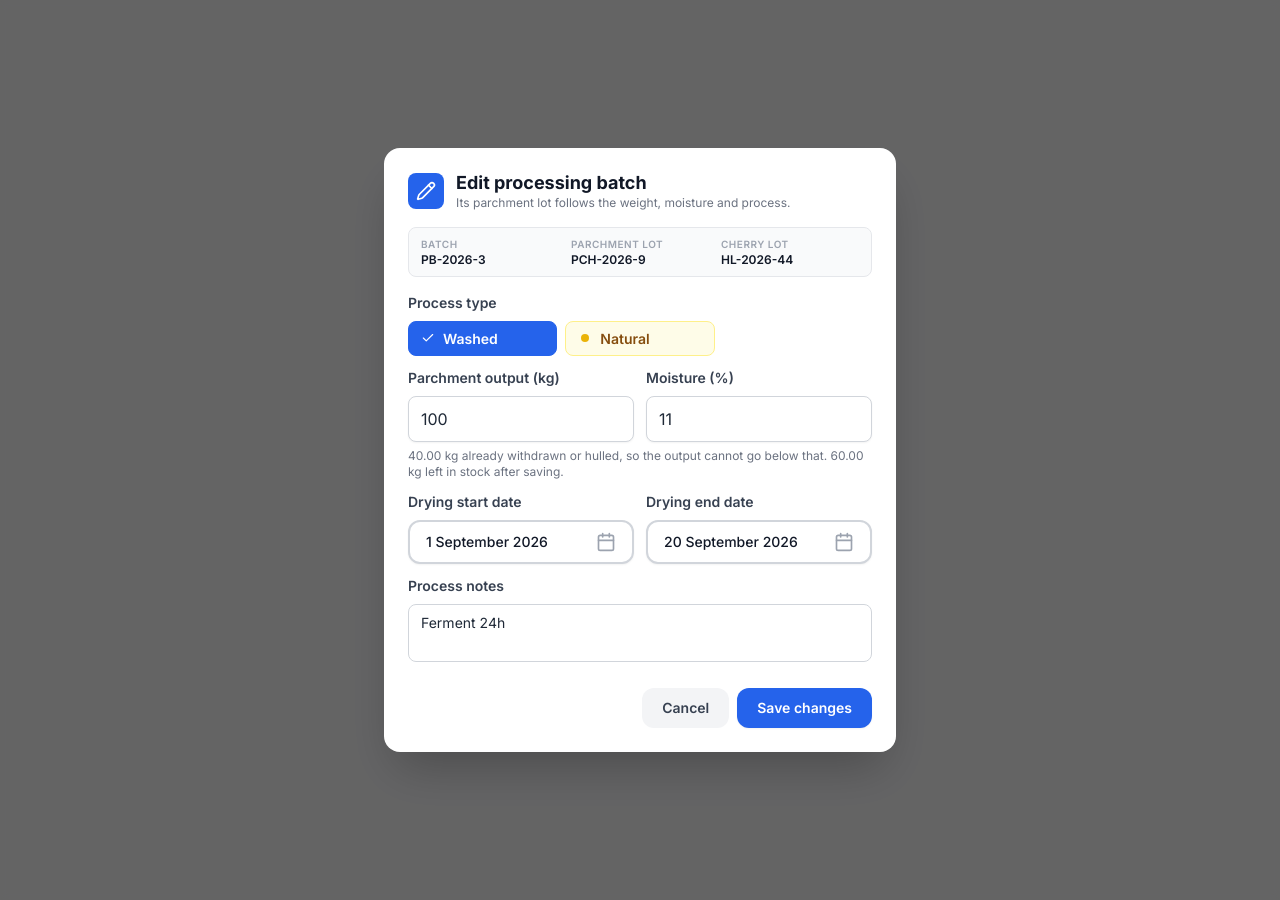
EditProcessingBatchModal › refuses an output below what already went out, or above the cherry, without sending
Replace the text in the number field labelled "Parchment output (kg)" with "39.5" at (521, 419), box 408,396 -> 634,442
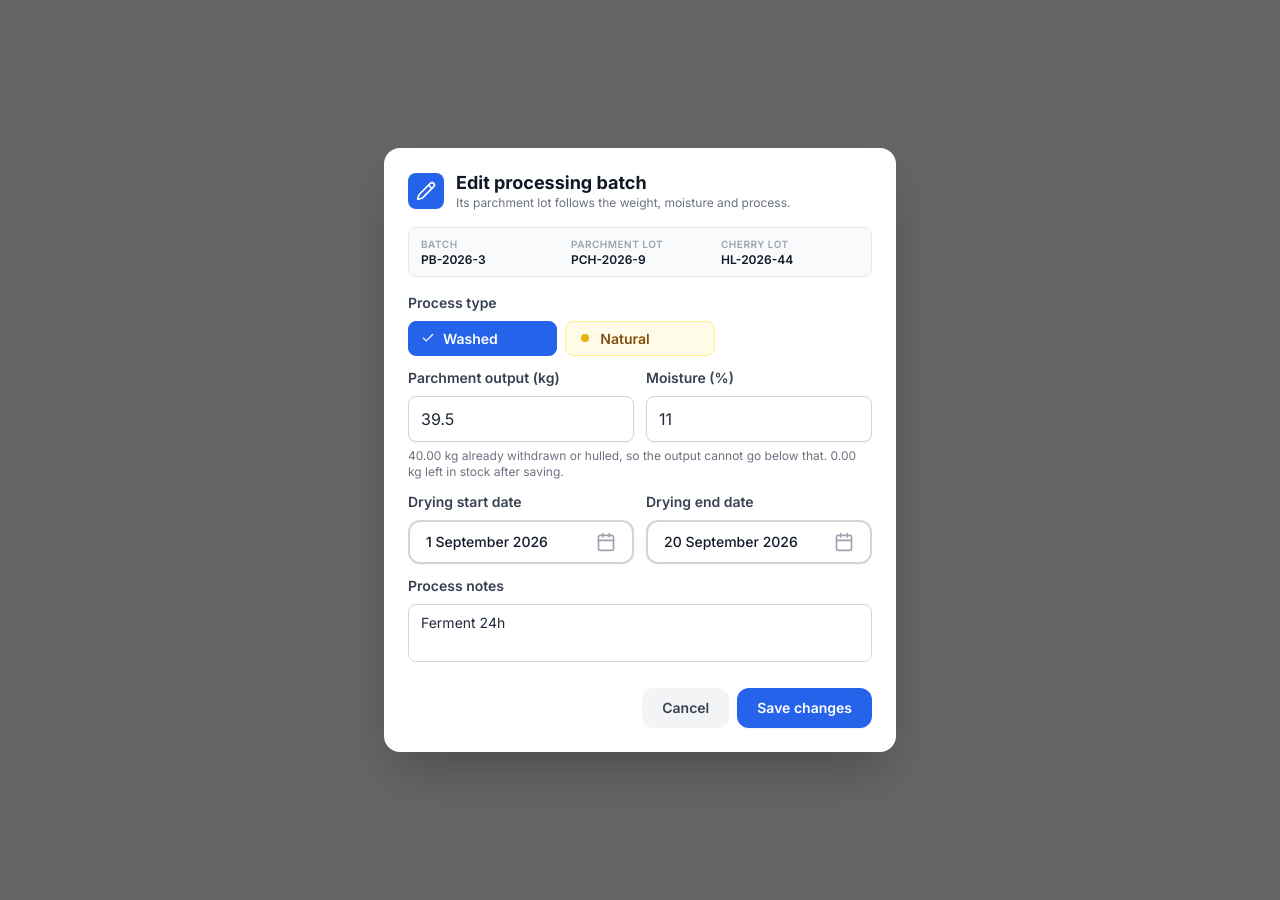
Click the button "Save changes" at (805, 708), box 737,688 -> 872,728
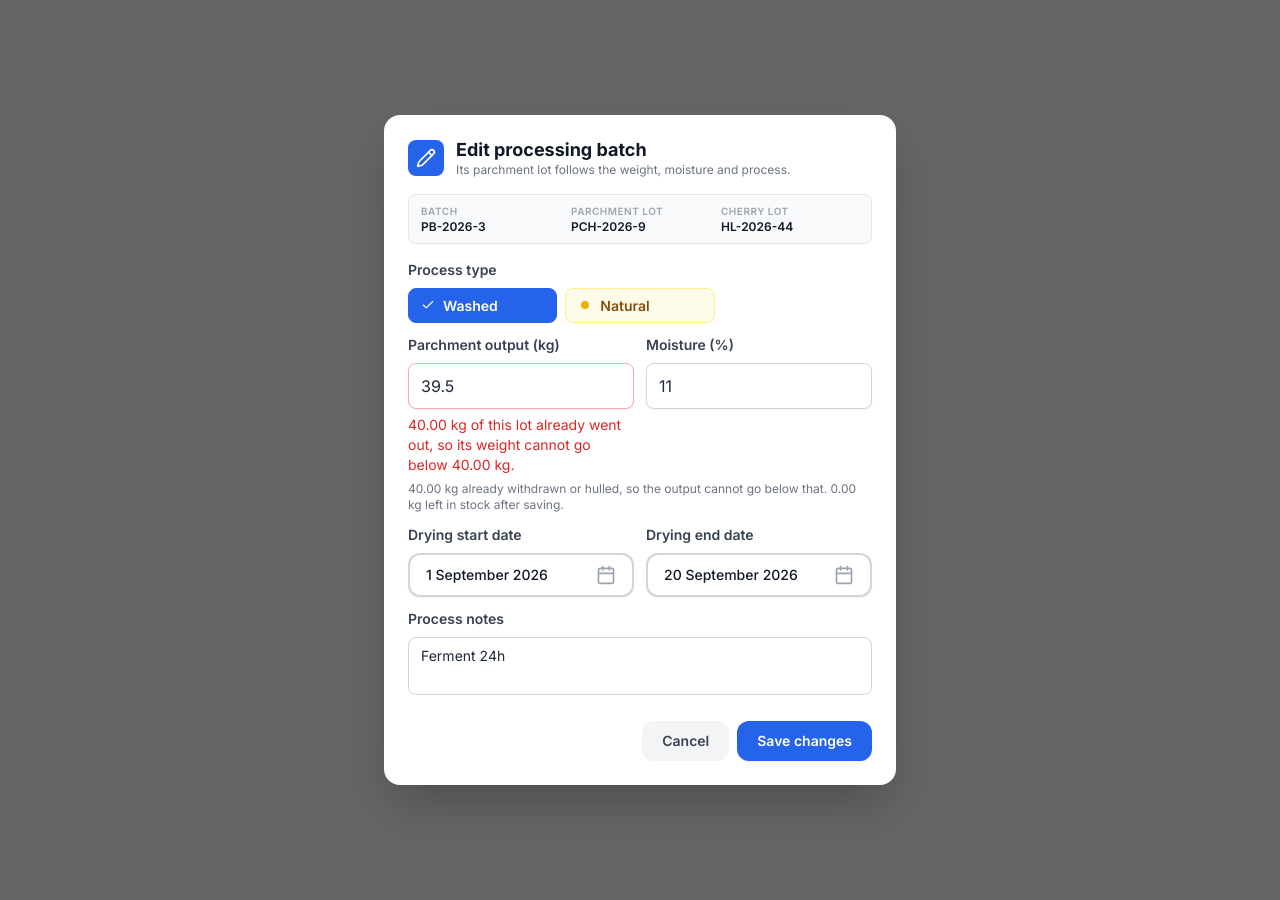
expect the text "40.00 kg of this lot already went out" is shown: met, box 408,416 -> 621,473
Replace the text in the number field labelled "Parchment output (kg)" with "401" at (521, 386), box 408,363 -> 634,409
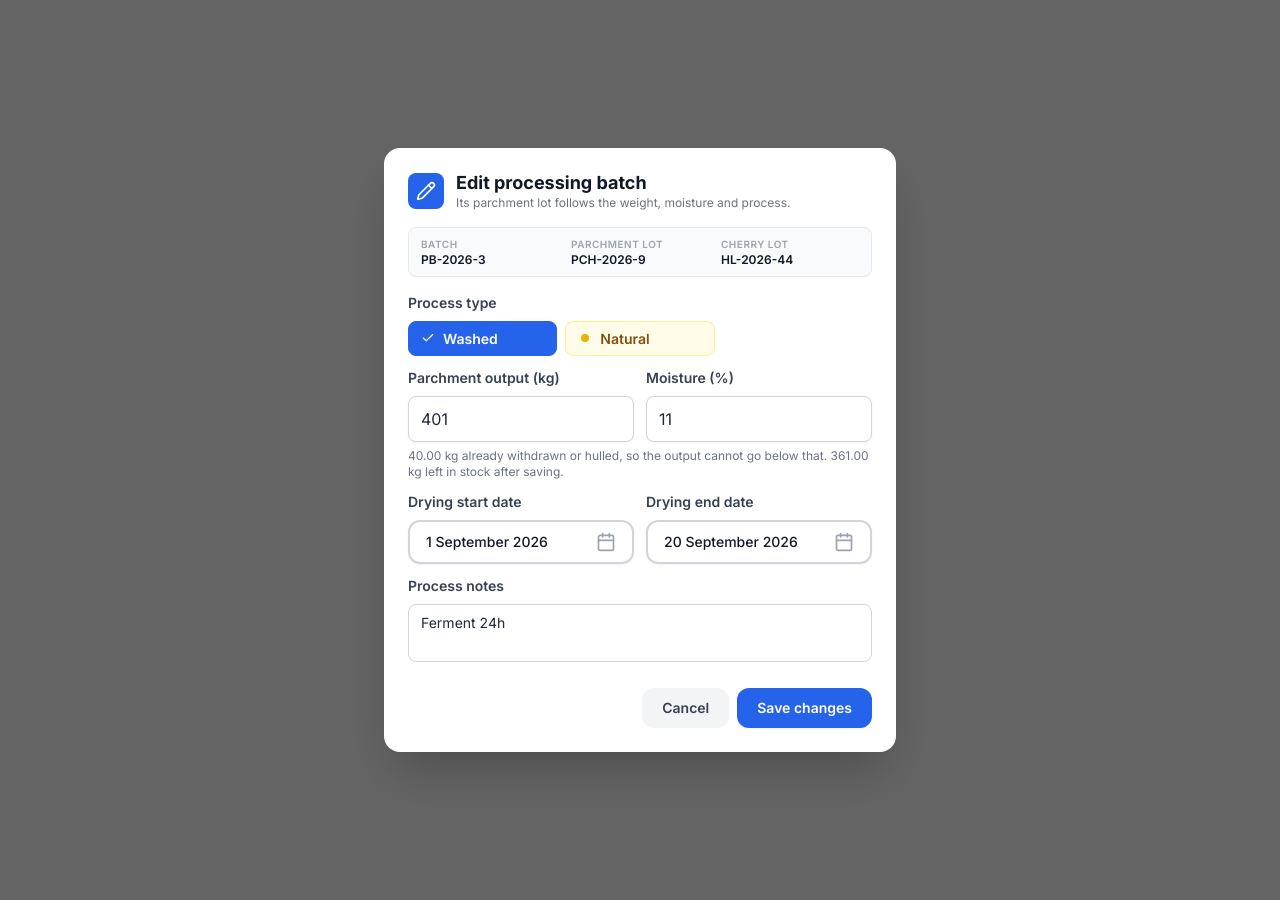
Click the button "Save changes" at (805, 708), box 737,688 -> 872,728
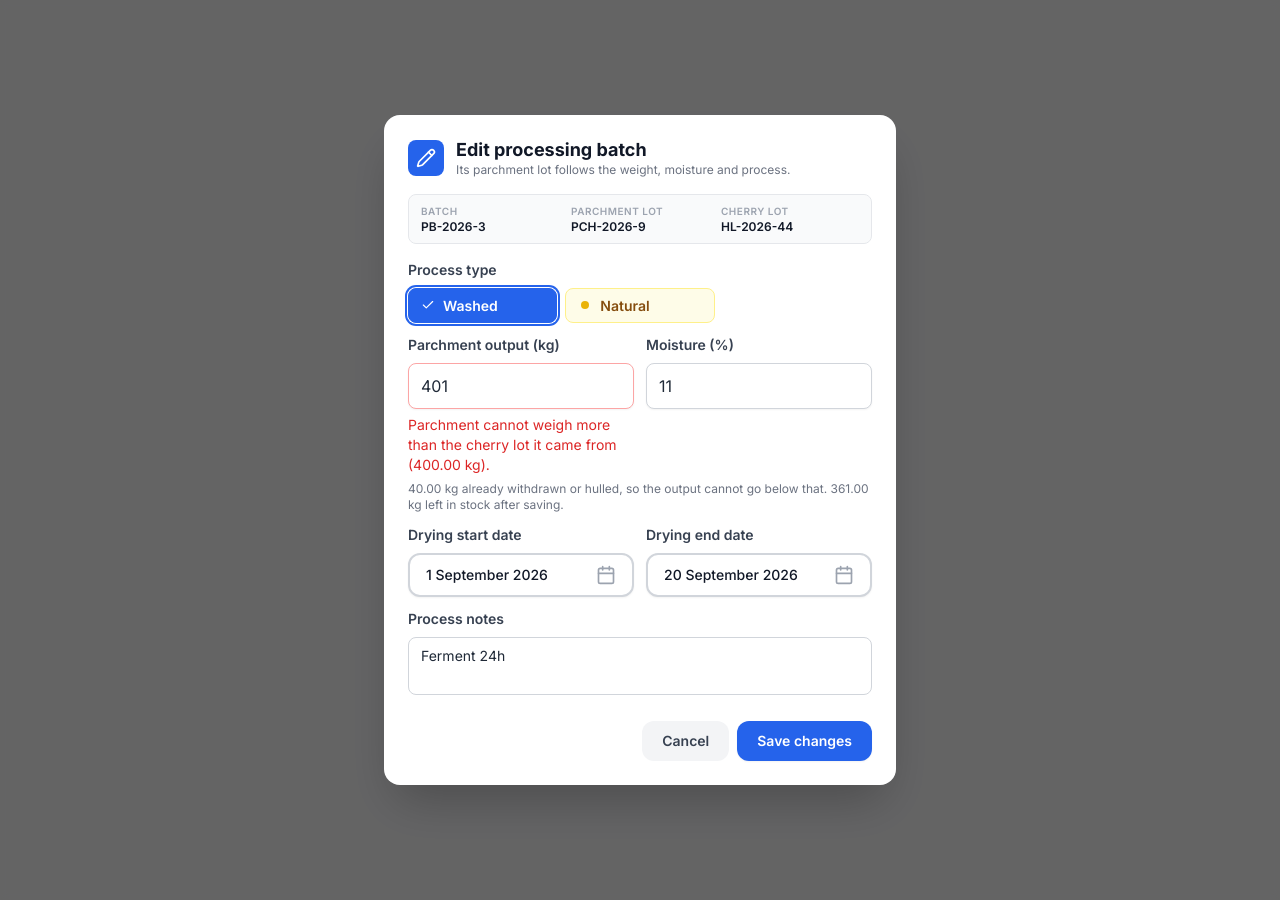
expect the text "cannot weigh more than the cherry lot it came from (400.00 kg)" is shown: met, box 408,416 -> 617,473
